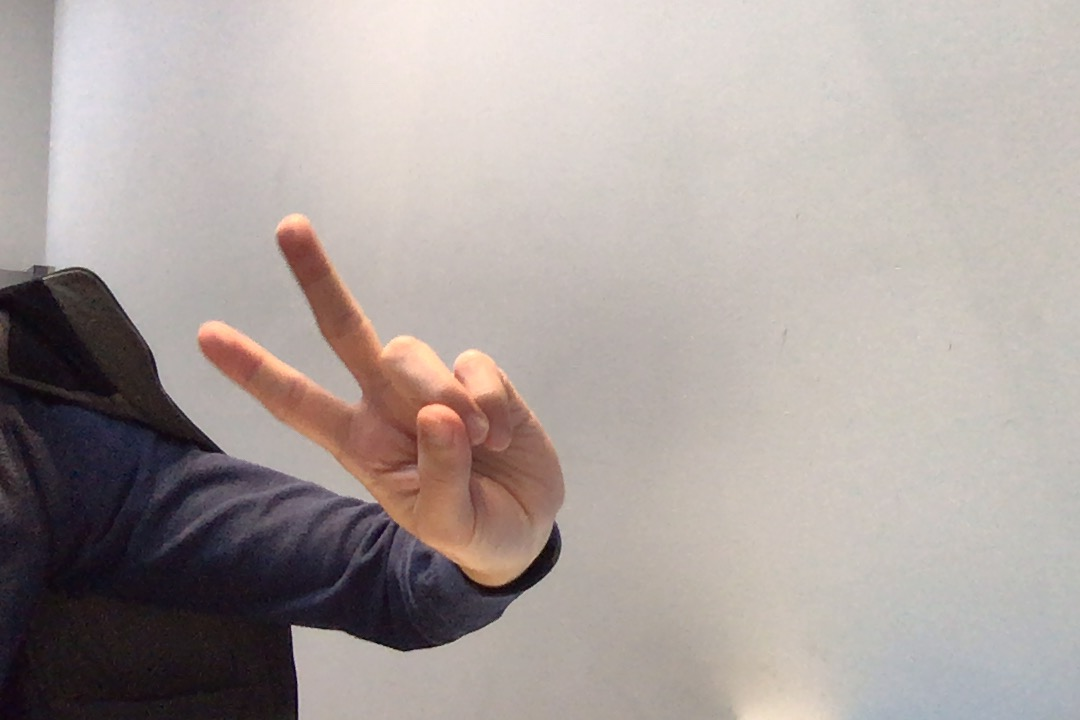peacesign: (182, 200, 577, 591)
